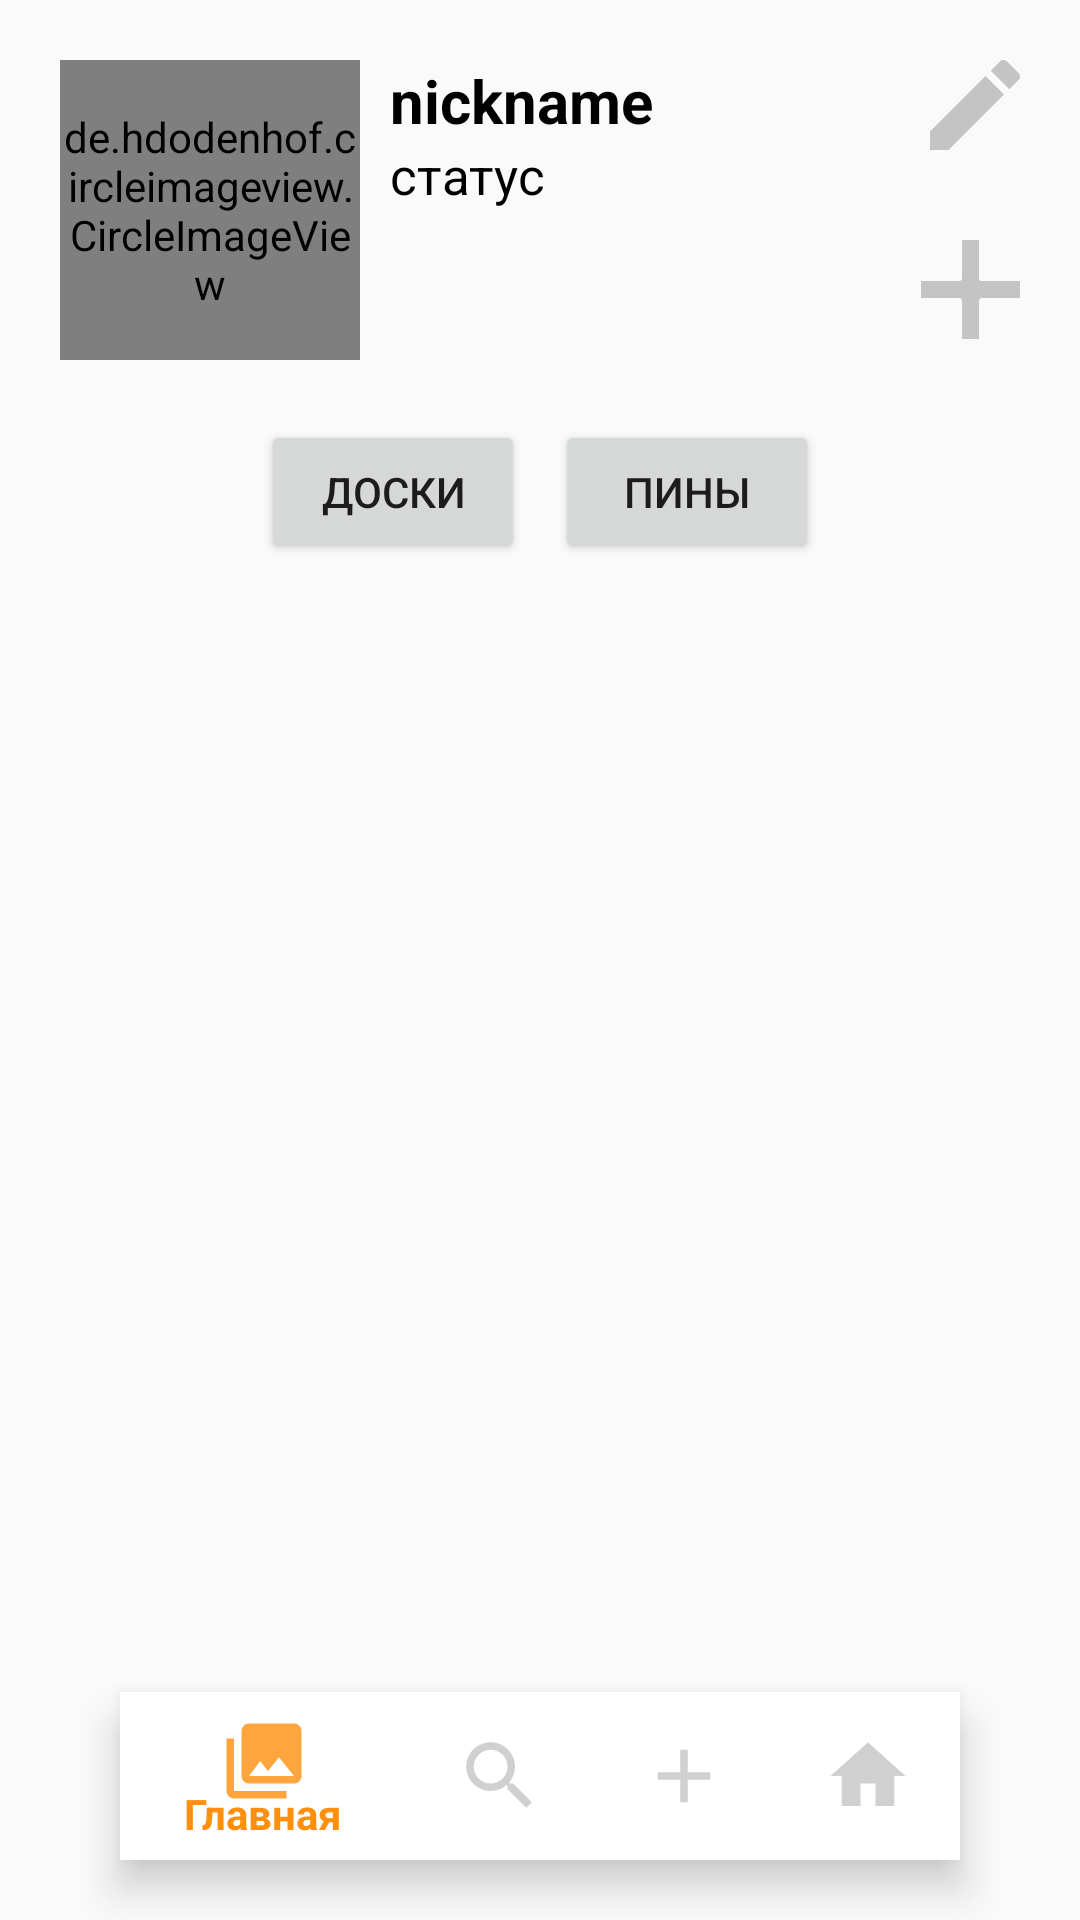

Named icons in this screenshot (1080×1920) and their centers, (x=x, y=y):
plus board pin: (x=970, y=289)
